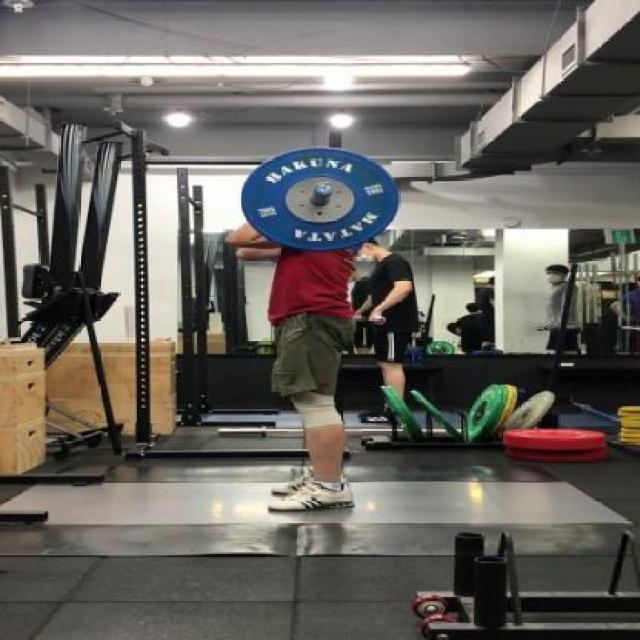barbell: (230, 141, 414, 258)
